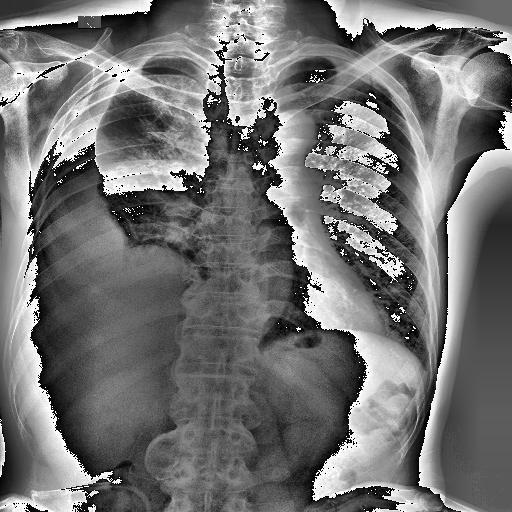0- Aortic enlargement: (252, 106, 316, 174)
10- Pleural effusion: (20, 50, 210, 358), (35, 48, 218, 349), (22, 54, 174, 303)
4- Consolidation: (98, 72, 208, 248)
7- Lung Opacity: (35, 48, 218, 349), (96, 61, 212, 263), (98, 72, 208, 248), (100, 88, 204, 260)
